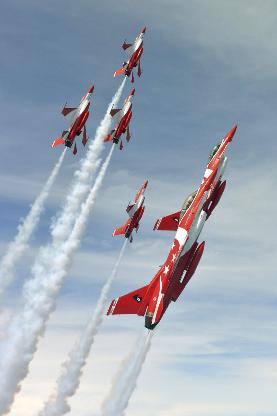F14: (105, 161, 220, 329), (151, 121, 238, 231), (50, 82, 95, 154), (111, 178, 148, 244), (102, 86, 135, 150), (112, 25, 145, 83)
